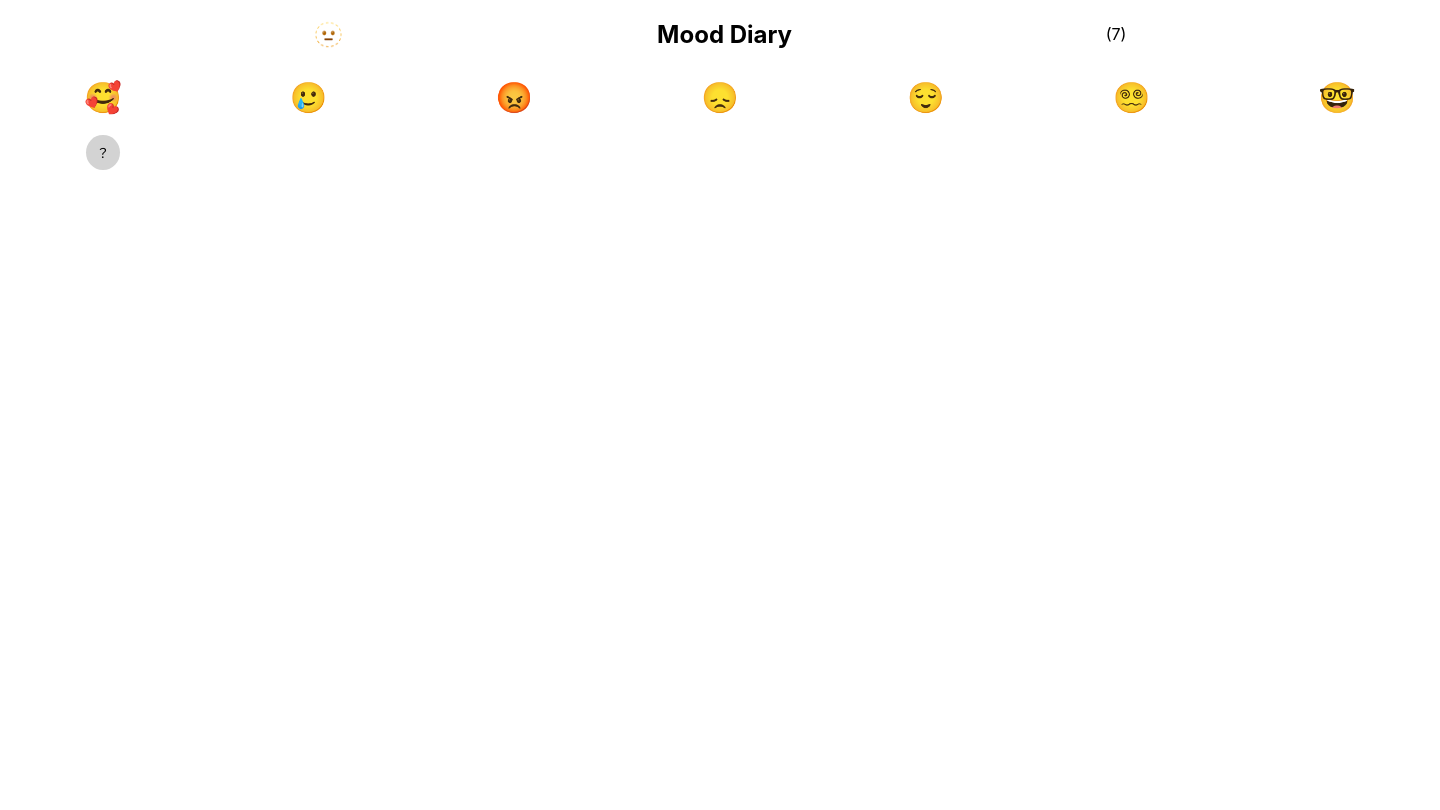
it: if push openMoodForm button, open the createMoodForm
Click the button with test id "openMoodForm" at point(103, 152), box [86, 135, 120, 170]
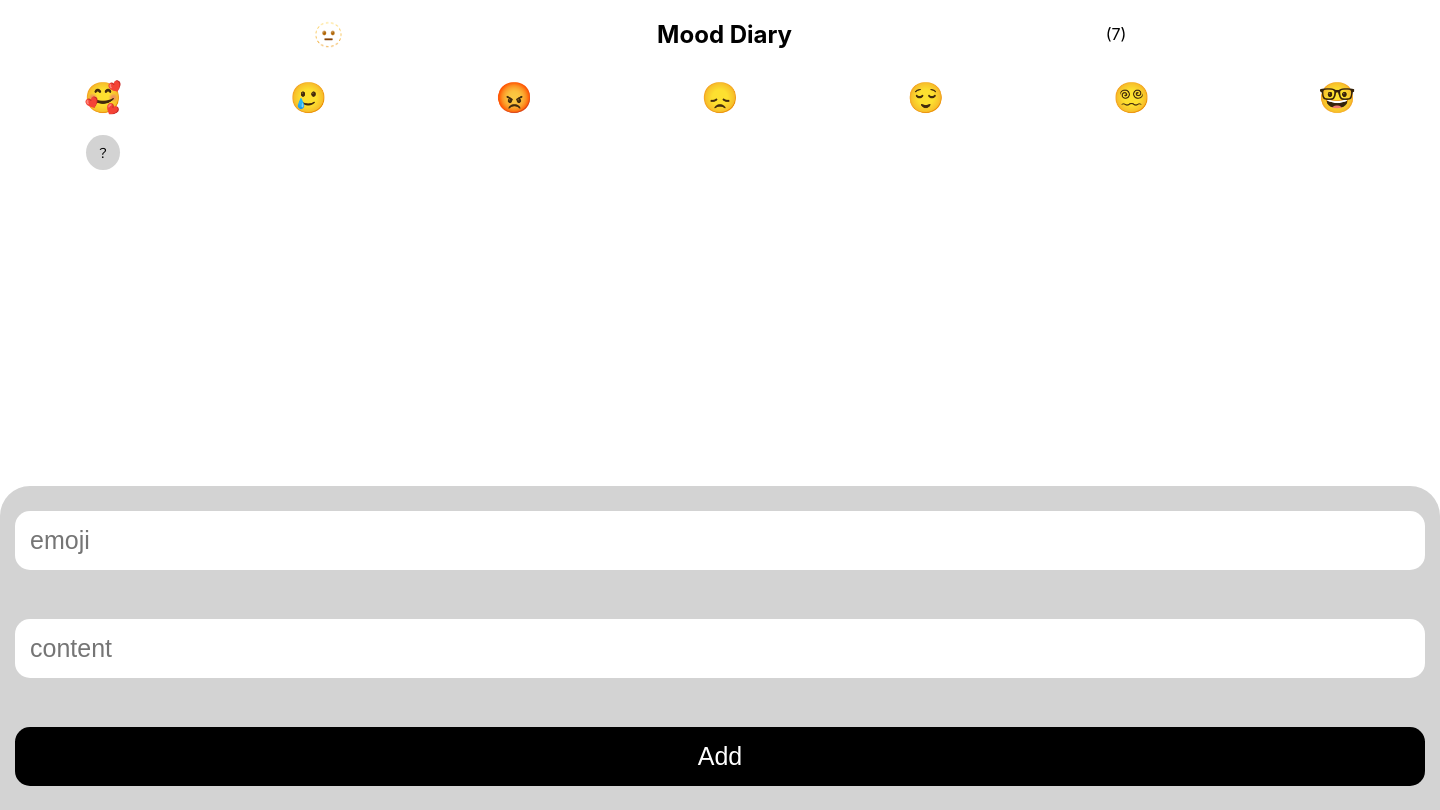
expect the form with test id "createMood" is enabled: met, box [0, 486, 1439, 809]
